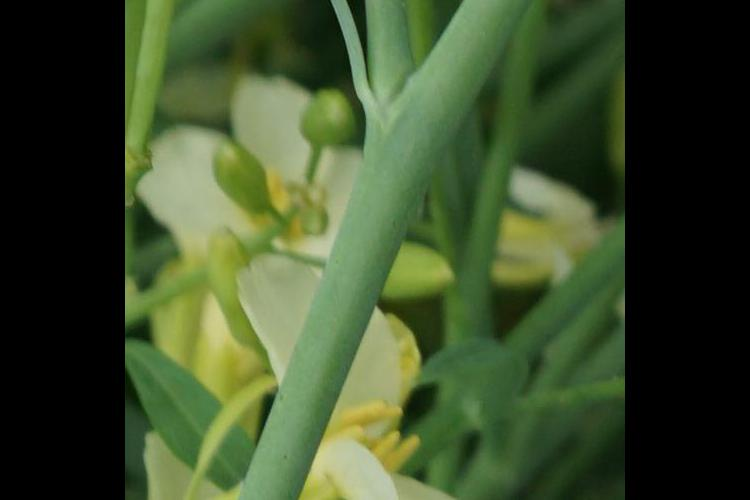bud: (199, 126, 285, 215), (203, 229, 263, 355), (293, 80, 363, 162), (293, 190, 341, 254)
white: (173, 281, 509, 500)
